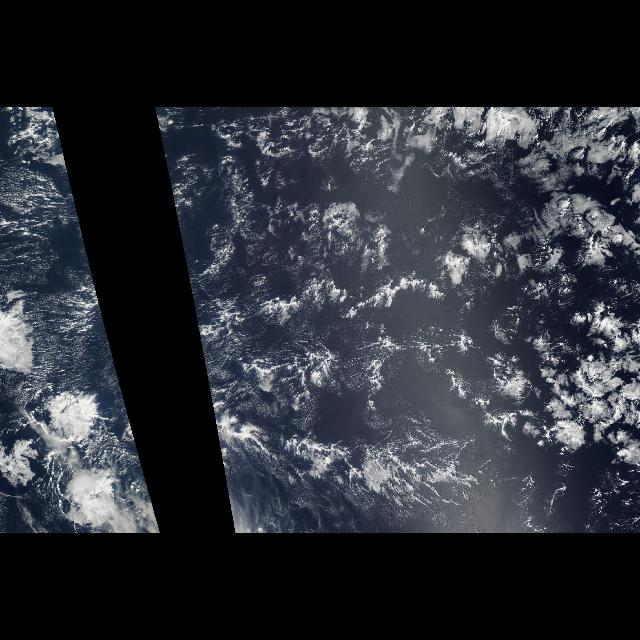Flower: (425, 168, 639, 450)
